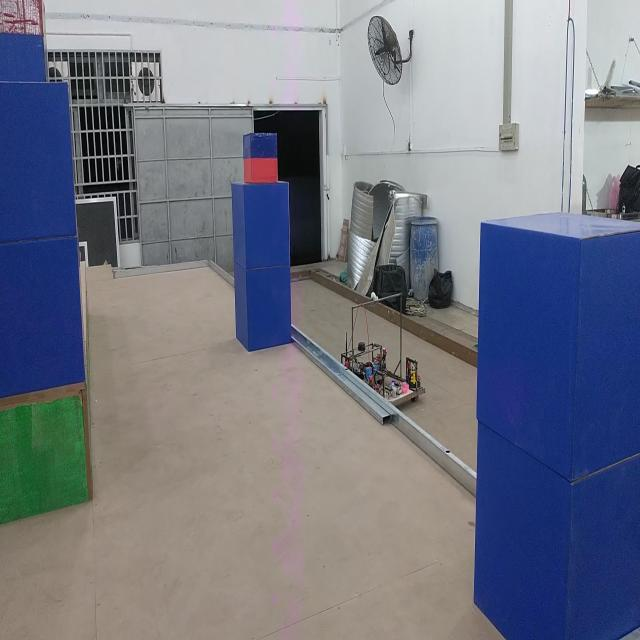earth_block: (474, 213, 640, 480), (232, 266, 294, 352), (231, 181, 291, 268)
sky_block: (241, 132, 280, 184)
